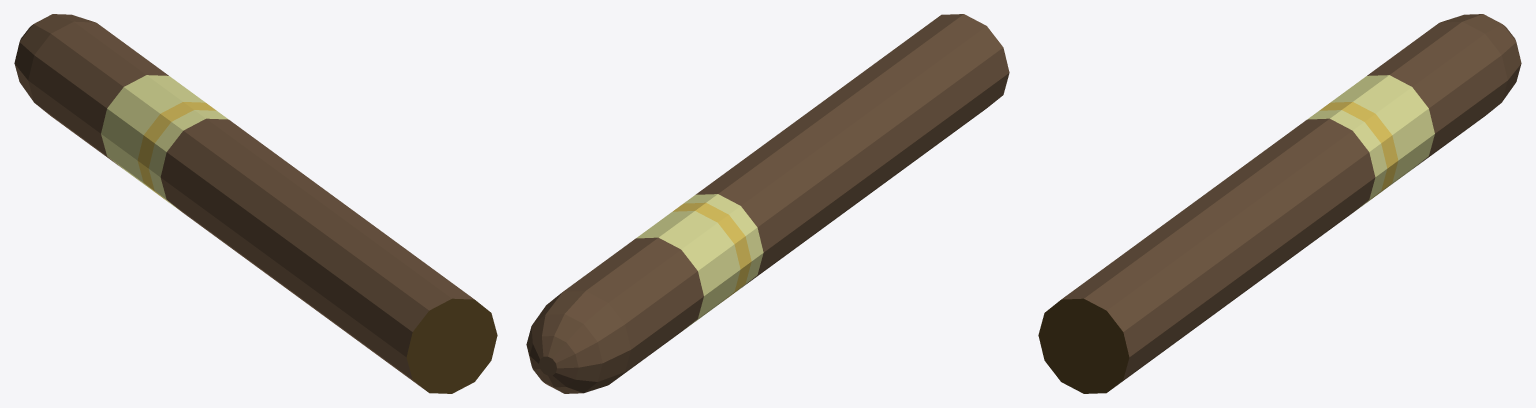
The model's file is Cigar.fbx.
The picture shows the model from 3 angles, left to right: view 1: azimuth 30°, elevation 25°; view 2: azimuth 150°, elevation 25°; view 3: azimuth 330°, elevation 25°; orthographic projection.
Parts seen in each view (by area): view 1: Cigar; view 2: Cigar; view 3: Cigar.
Part boxes in pixels (x1,y1,x2,y2): Cigar: [14, 14, 497, 393]; Cigar: [526, 14, 1009, 393]; Cigar: [1038, 14, 1521, 393].
Size of the model in its own units: 0.12 by 0.12 by 0.95.
